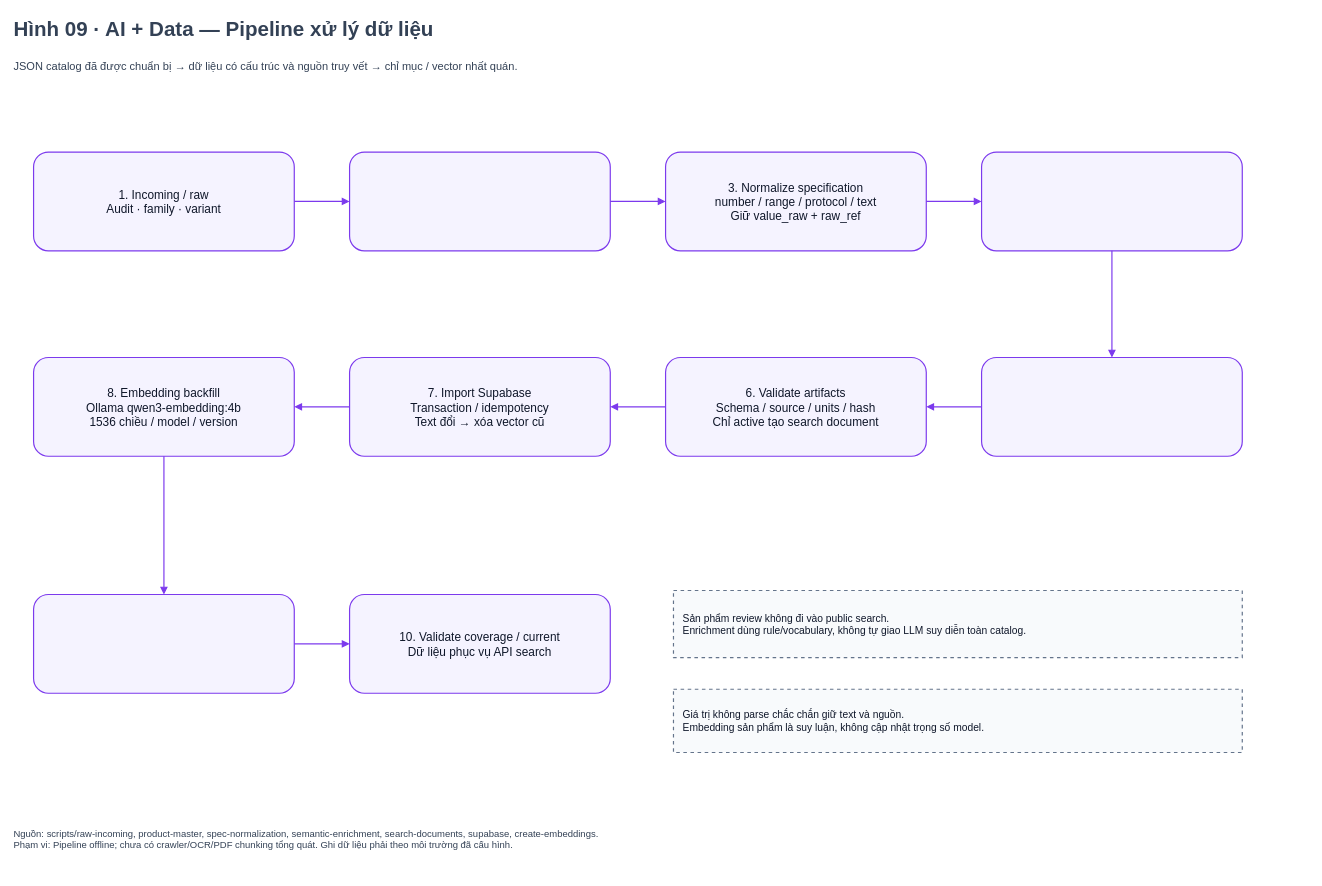
Image size: 1322x886. Some labels were removed from this diagram. Each missing label, with the centre of its shape:
2. Product master Identity / taxonomy active hoặc review: point (480, 201)
4. Semantic enrichment Rule + vocabulary VI/EN Measurements / capabilities: point (1112, 201)
5. Search document search_text VI/EN content_hash SHA-256: point (1112, 406)
9. product_search_index FTS + embedding + metadata Guard nguồn trước ghi vector: point (164, 643)
